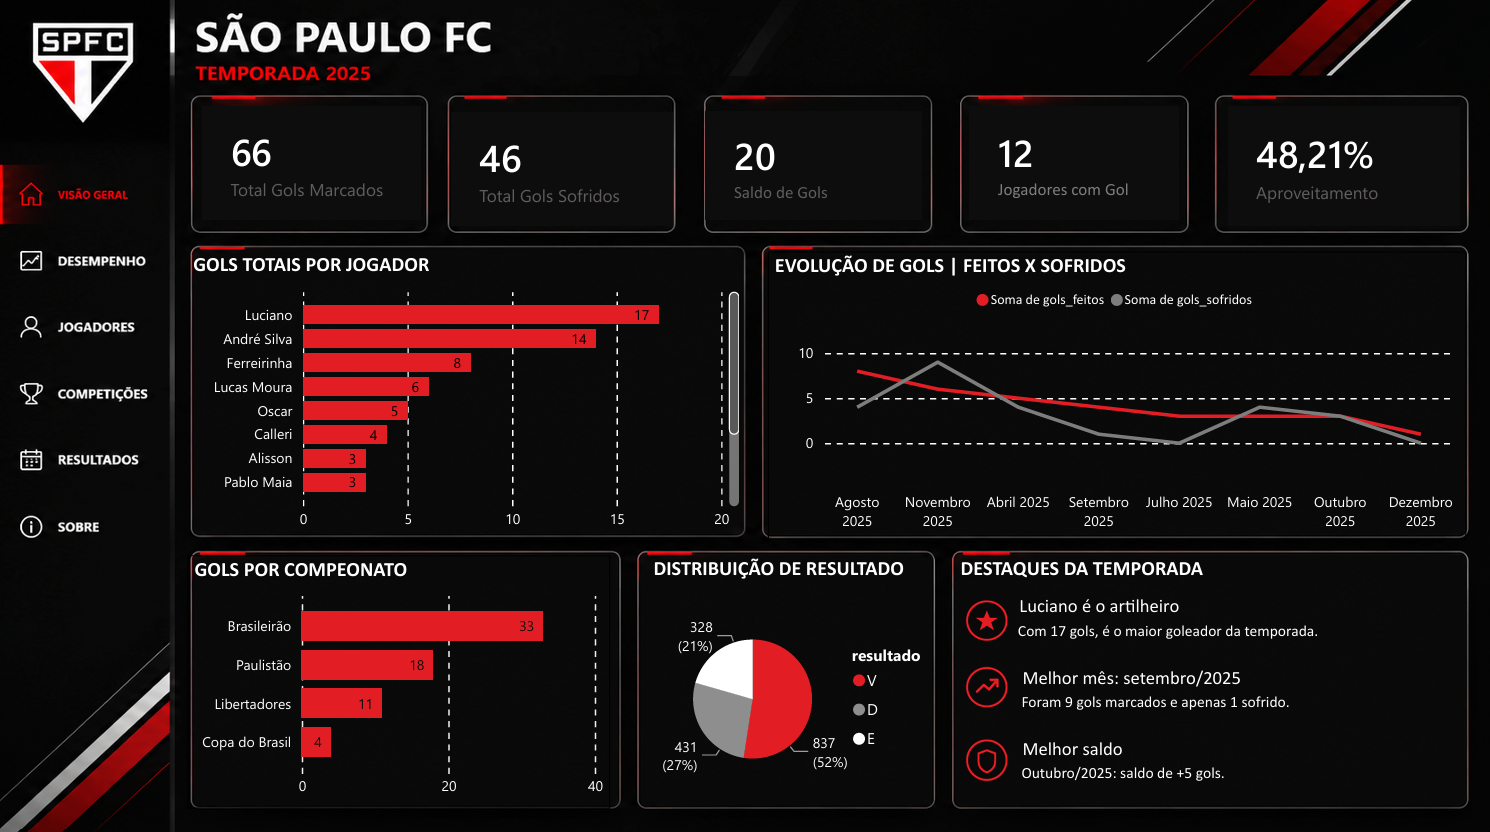

What the dashboard file says about the page in this screenshot:
{"tool":"powerbi","page":{"name":"Página 1","canvas":[1280,720],"ordinal":0},"visuals":[{"type":"cardVisual","fields":{"Data":["saopaulo_2025 jogos.Total Gols Marcados"]},"box":[171.1,88,197.6,107.2],"z":0},{"type":"cardVisual","fields":{"Data":["saopaulo_2025 jogos.Total Gols Sofridos"]},"box":[384.3,92.8,200,107.2],"z":1000},{"type":"cardVisual","fields":{"Data":["saopaulo_2025 jogos.Saldo de Gols"]},"box":[607.2,88,188,107.2],"z":2000},{"type":"cardVisual","fields":{"Data":["saopaulo_2025 artilheiros.Jogadores com Gol"]},"box":[827.7,88,189.2,107.2],"z":3000},{"type":"cardVisual","fields":{"Data":["saopaulo_2025 jogos.Aproveitamento"]},"box":[1049.4,88,208.4,112],"z":4000},{"type":"clusteredBarChart","title":"GOLS TOTAIS POR JOGADOR","fields":{"Category":["saopaulo_2025 artilheiros.jogador"],"Y":["Sum(saopaulo_2025 artilheiros.gols_total)"]},"box":[162.7,216.9,477.1,247],"z":5000},{"type":"barChart","title":"GOLS POR COMPEONATO","fields":{"Category":["saopaulo_2025 jogos.competicao"],"Y":["Sum(saopaulo_2025 jogos.gols_spfc)"]},"box":[162.9,476.5,361.9,217.2],"z":6000},{"type":"lineChart","title":"    EVOLUÇÃO DE GOLS | FEITOS X SOFRIDOS","fields":{"Y":["Sum(saopaulo_2025 desempenho_mensal.gols_feitos)","Sum(saopaulo_2025 desempenho_mensal.gols_sofridos)"],"Category":["saopaulo_2025 desempenho_mensal.mes"]},"box":[660.2,216.9,597.6,247],"z":7000},{"type":"pieChart","title":"DISTRIBUIÇÃO DE RESULTADO","fields":{"Y":["Sum(saopaulo_2025 jogos.id)"],"Category":["saopaulo_2025 jogos.resultado"]},"box":[556.6,477.1,257.8,225.3],"z":8000},{"type":"textbox","title":"DESTAQUES DA TEMPORADA","box":[820.5,477.1,437.3,225.3],"z":9000},{"type":"image","box":[827.7,509.6,38.6,45.8],"z":10000},{"type":"image","box":[827.7,567.5,38.6,45.8],"z":11000},{"type":"image","box":[827.7,630.1,38.6,44.6],"z":12000}]}

Visuals, with their boxes on the page's 1280x720 design canvas (x1, y1, x2, y2). These are canvas units, not pixel positions in the 1490x832 screenshot, which may show the page scaled, cropped or inside an application window:
cardVisual - saopaulo_2025 jogos.Total Gols Marcados: 171 88 369 195
cardVisual - saopaulo_2025 jogos.Total Gols Sofridos: 384 93 584 200
cardVisual - saopaulo_2025 jogos.Saldo de Gols: 607 88 795 195
cardVisual - saopaulo_2025 artilheiros.Jogadores com Gol: 828 88 1017 195
cardVisual - saopaulo_2025 jogos.Aproveitamento: 1049 88 1258 200
"GOLS TOTAIS POR JOGADOR" clusteredBarChart: 163 217 640 464
"GOLS POR COMPEONATO" barChart: 163 476 525 694
"    EVOLUÇÃO DE GOLS | FEITOS X SOFRIDOS" lineChart: 660 217 1258 464
"DISTRIBUIÇÃO DE RESULTADO" pieChart: 557 477 814 702
"DESTAQUES DA TEMPORADA" textbox: 820 477 1258 702
image: 828 510 866 555
image: 828 568 866 613
image: 828 630 866 675
